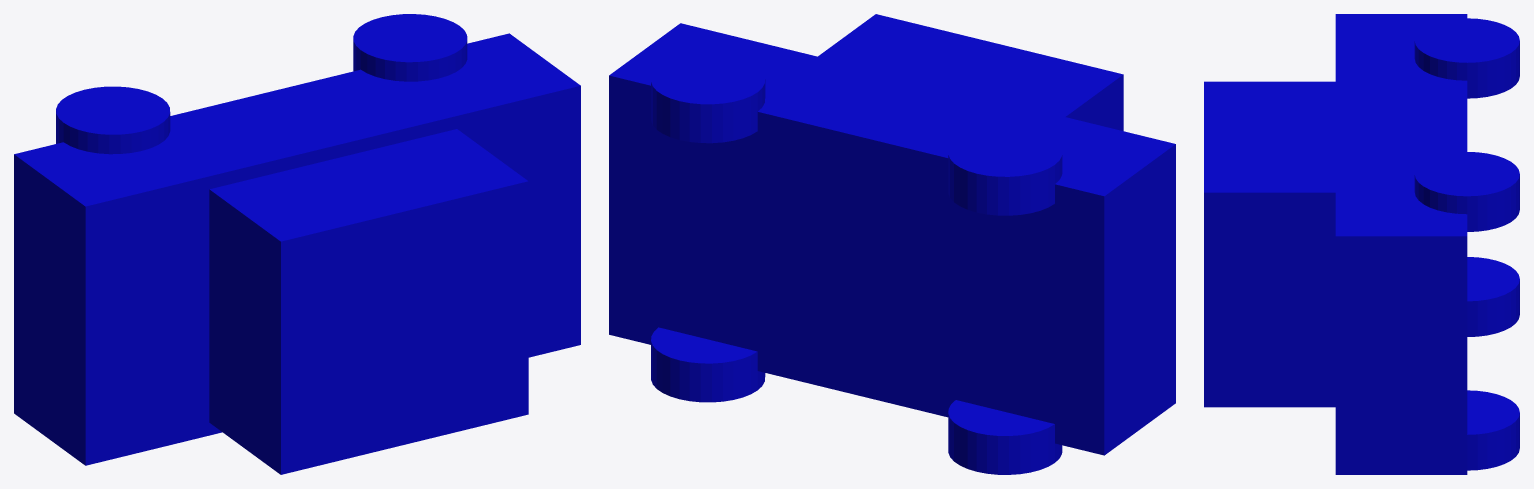
Rendered from model_cd737baf9894.glb.
The picture shows the model from 3 angles, left to right: view 1: azimuth 30°, elevation 25°; view 2: azimuth 150°, elevation 25°; view 3: azimuth 270°, elevation 25°; orthographic projection. The views are drawn at different scales.
Visible parts, largest first — view 1: world; view 2: world; view 3: world.
Boxes of the visible parts, x1=… form: world: x1=14, y1=14, x2=580, y2=474; world: x1=609, y1=14, x2=1175, y2=474; world: x1=1204, y1=14, x2=1519, y2=474.
Size of the model in its own units: 4 by 2.3 by 2.4.
